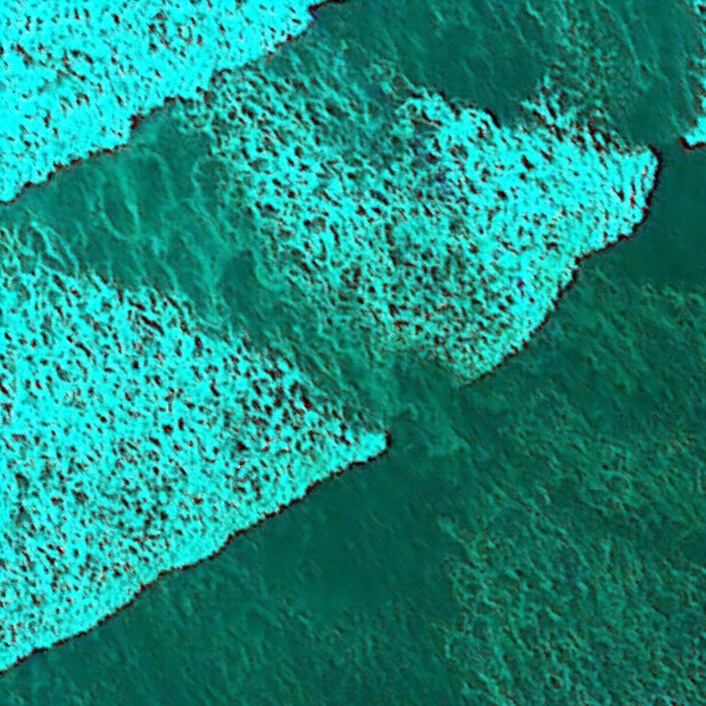rip_current: (79, 132, 479, 527)
